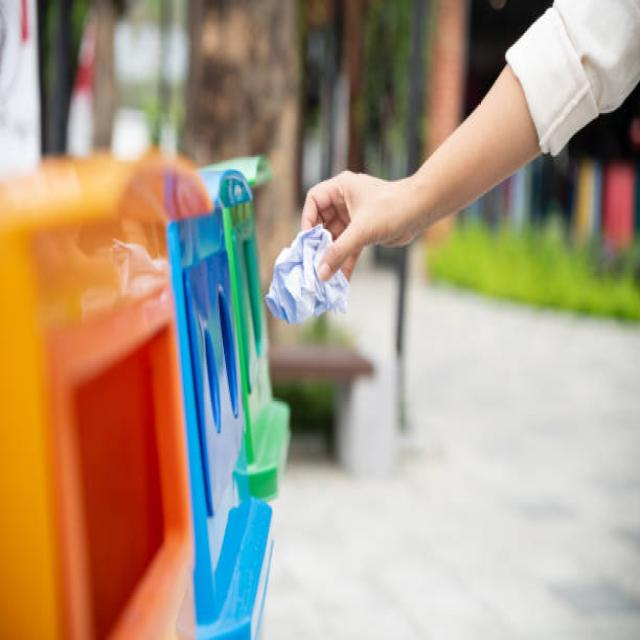paper: (271, 235, 347, 311)
